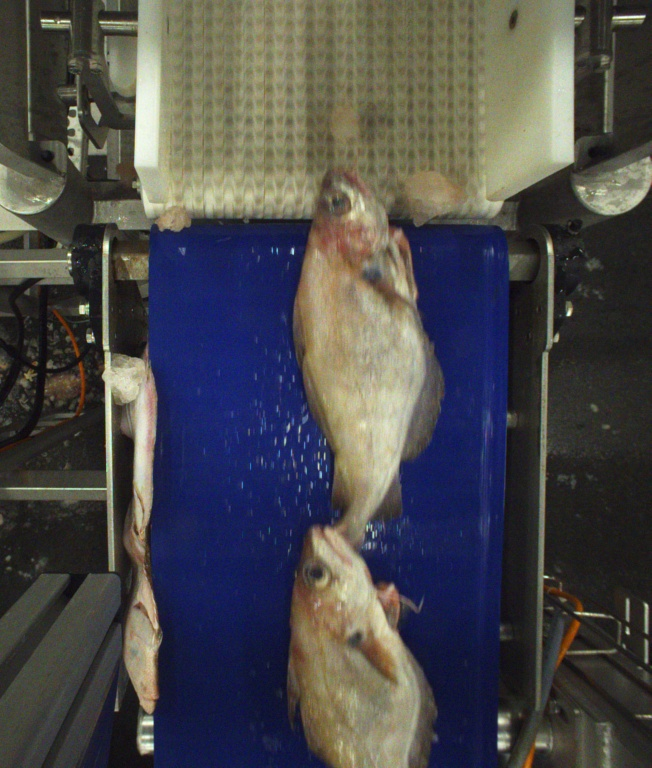BIB: (293, 163, 443, 568)
